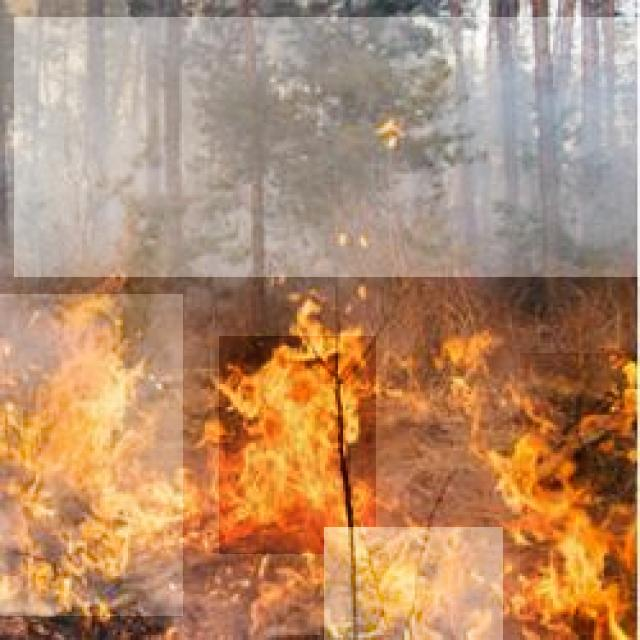Fire: (0, 294, 183, 616), (219, 336, 376, 554), (520, 353, 636, 640), (324, 527, 503, 640)
Smoke: (14, 17, 640, 277)
